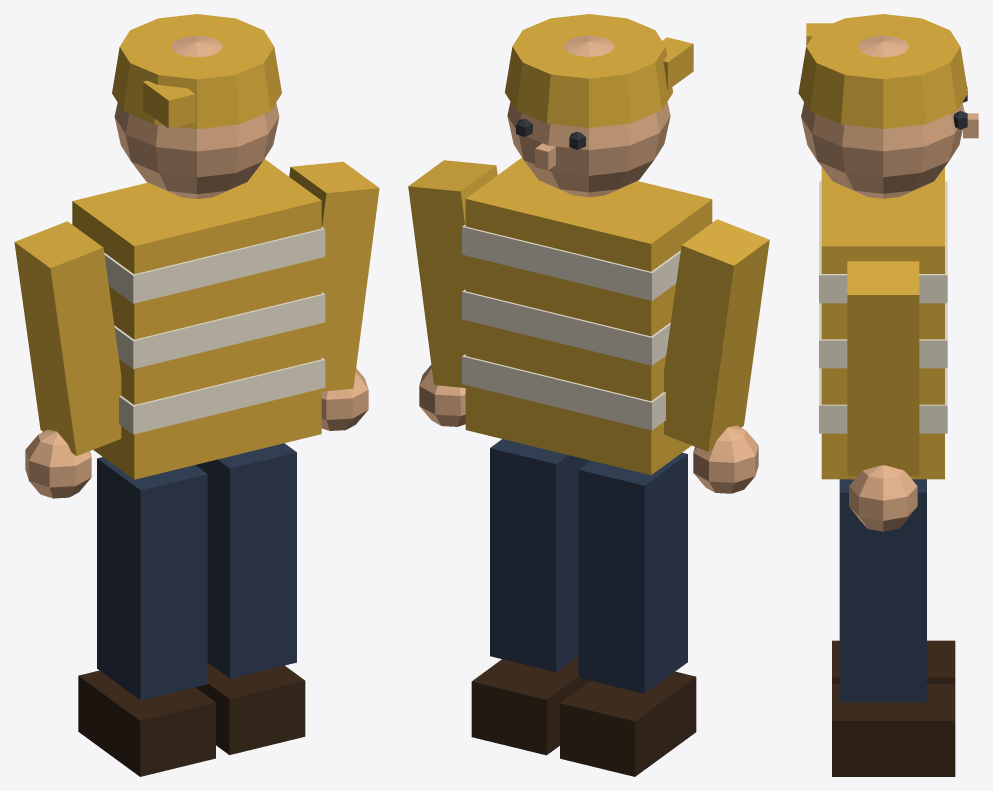
The model's file is Character_Crew4.fbx.
3 renders of one model, left to right at view 1: azimuth 30°, elevation 25°; view 2: azimuth 150°, elevation 25°; view 3: azimuth 270°, elevation 25°, orthographic.
Parts seen in each view (by area): view 1: Character_Crew4; view 2: Character_Crew4; view 3: Character_Crew4.
Part boxes in pixels (x1=…): Character_Crew4: x1=14, y1=14, x2=379, y2=776; Character_Crew4: x1=408, y1=14, x2=769, y2=776; Character_Crew4: x1=798, y1=14, x2=978, y2=776.
Bounding box in the file's own units: 0.7531 × 1.49 × 0.35.
